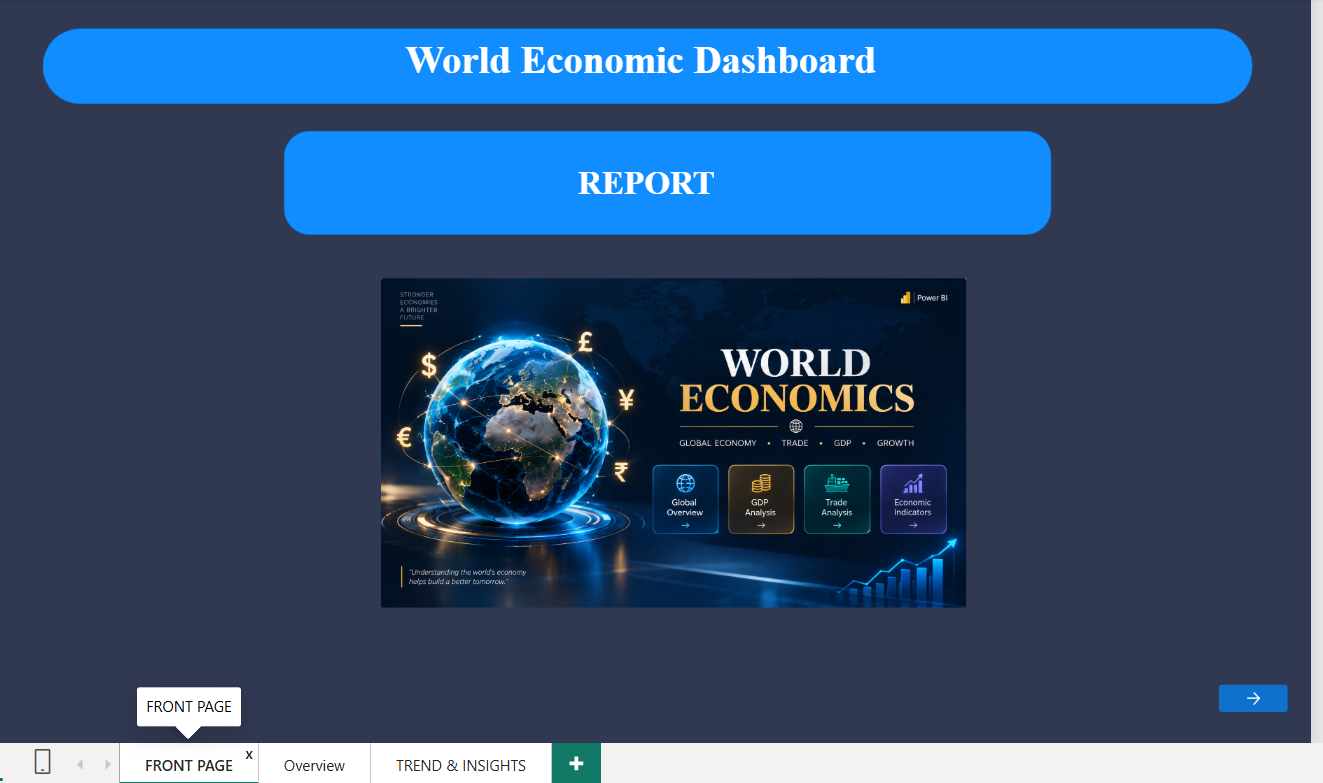

The dashboard page shown, as its layout file describes it:
{"tool":"powerbi","page":{"name":"FRONT PAGE ","canvas":[1920,1080],"ordinal":0},"visuals":[{"type":"shape","box":[83.8,44.7,1752.1,109.9],"z":3003},{"type":"textbox","box":[165.7,59.6,1565.9,72.6],"z":3004},{"type":"shape","box":[432,193.6,1111.6,150.8],"z":3005},{"type":"textbox","box":[84,179,348,151],"z":3006},{"type":"textbox","box":[579.1,242.1,769,59.6],"z":3007},{"type":"actionButton","box":[1785.6,996.1,100,40],"z":3008},{"type":"image","box":[432,407.8,1128.3,476.7],"z":3009}]}

Visuals, with their boxes on the page's 1920x1080 design canvas (x1, y1, x2, y2). These are canvas units, not pixel positions in the 1323x783 screenshot, which may show the page scaled, cropped or inside an application window:
shape: bbox(84, 45, 1836, 155)
textbox: bbox(166, 60, 1732, 132)
shape: bbox(432, 194, 1544, 344)
textbox: bbox(84, 179, 432, 330)
textbox: bbox(579, 242, 1348, 302)
actionButton: bbox(1786, 996, 1886, 1036)
image: bbox(432, 408, 1560, 884)
